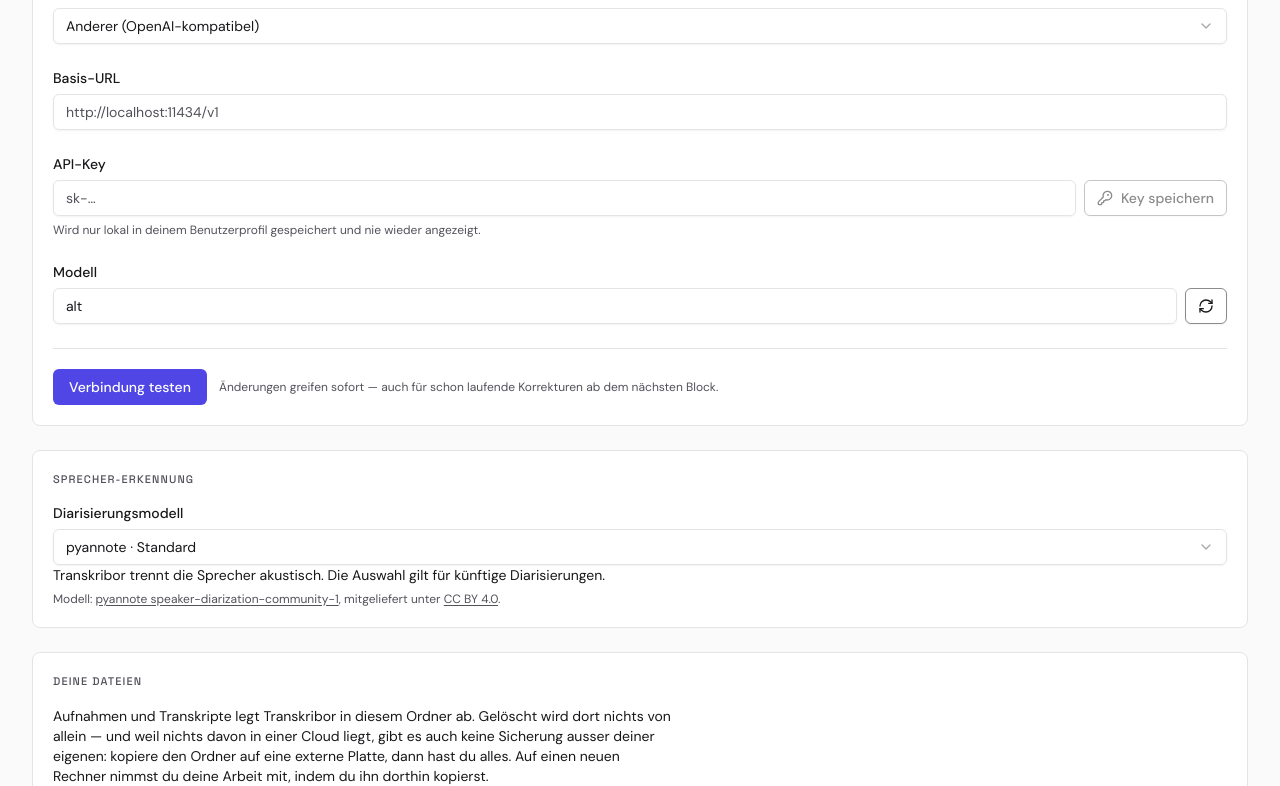
it: SettingsPage › verwirft ein altes Testergebnis nach Änderung des Modells
(page scrolled)
Click the button "Verbindung testen" at x=130, y=386, box left=53, top=368, right=207, bottom=404
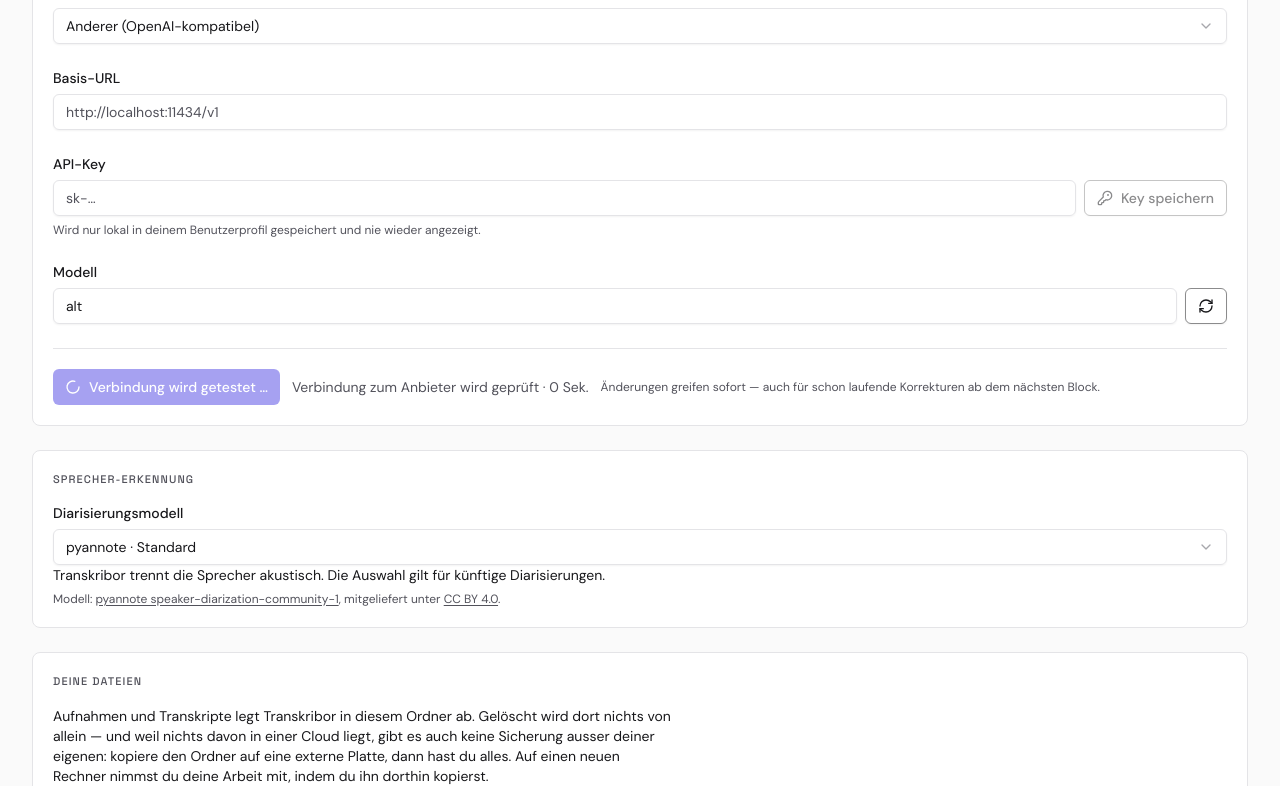
Replace the text in the field with placeholder "Modellname" with "neu" at x=615, y=306, box left=53, top=288, right=1177, bottom=324
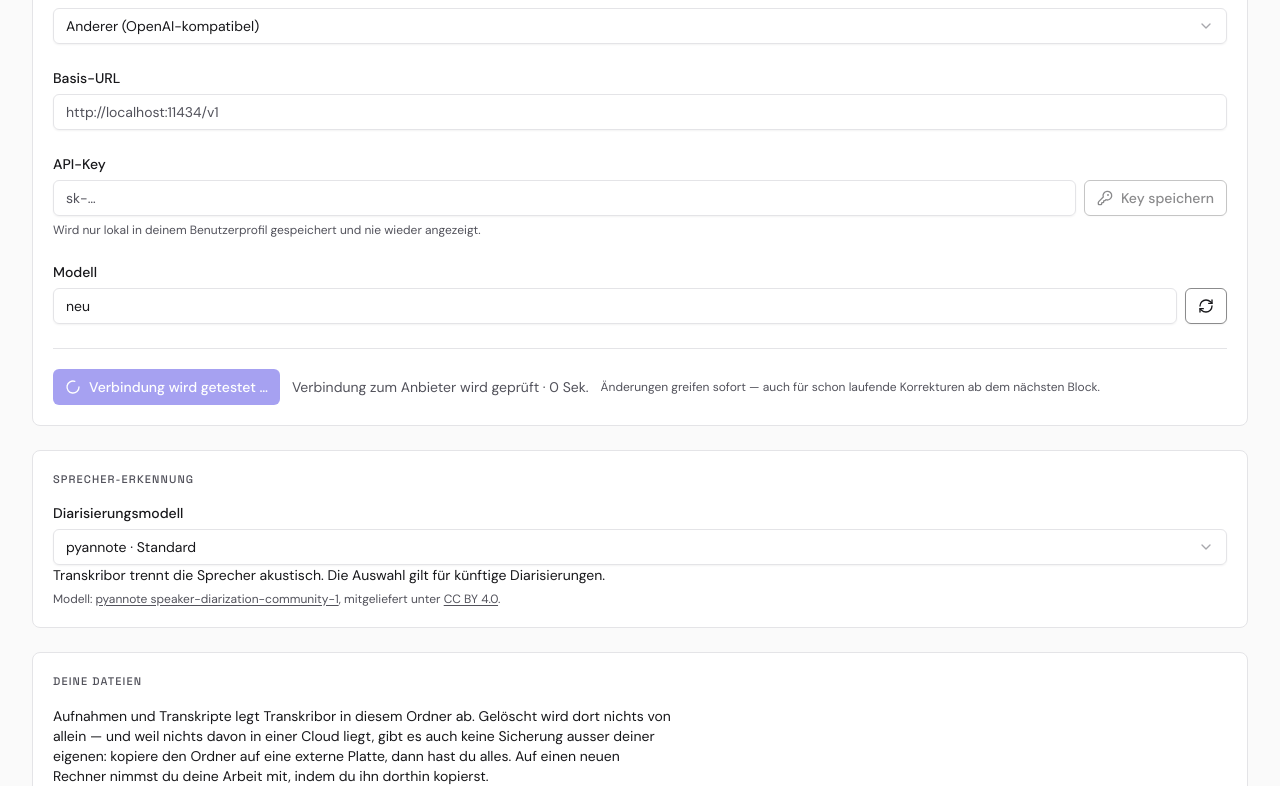
Leave the field with placeholder "Modellname", box left=53, top=288, right=1177, bottom=324
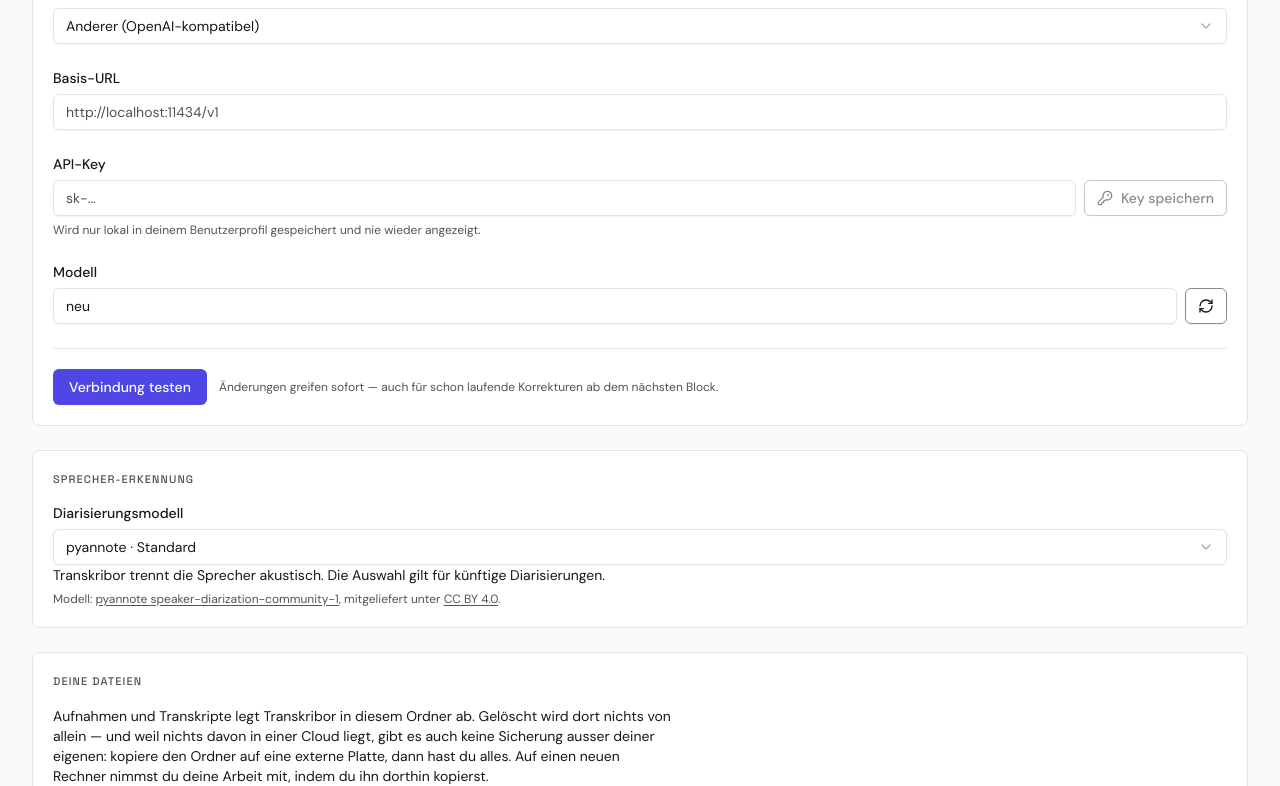
Result: the text "Verbindung zum Anbieter wird geprüft" is gone
